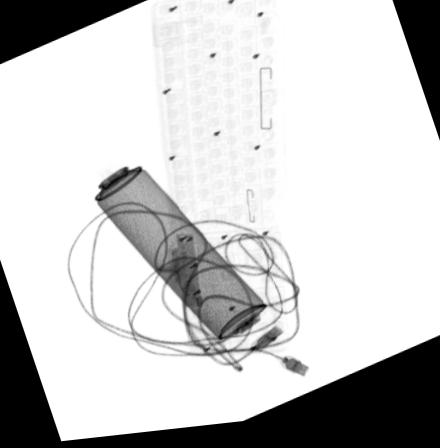Sprayer: (74, 149, 268, 348)
